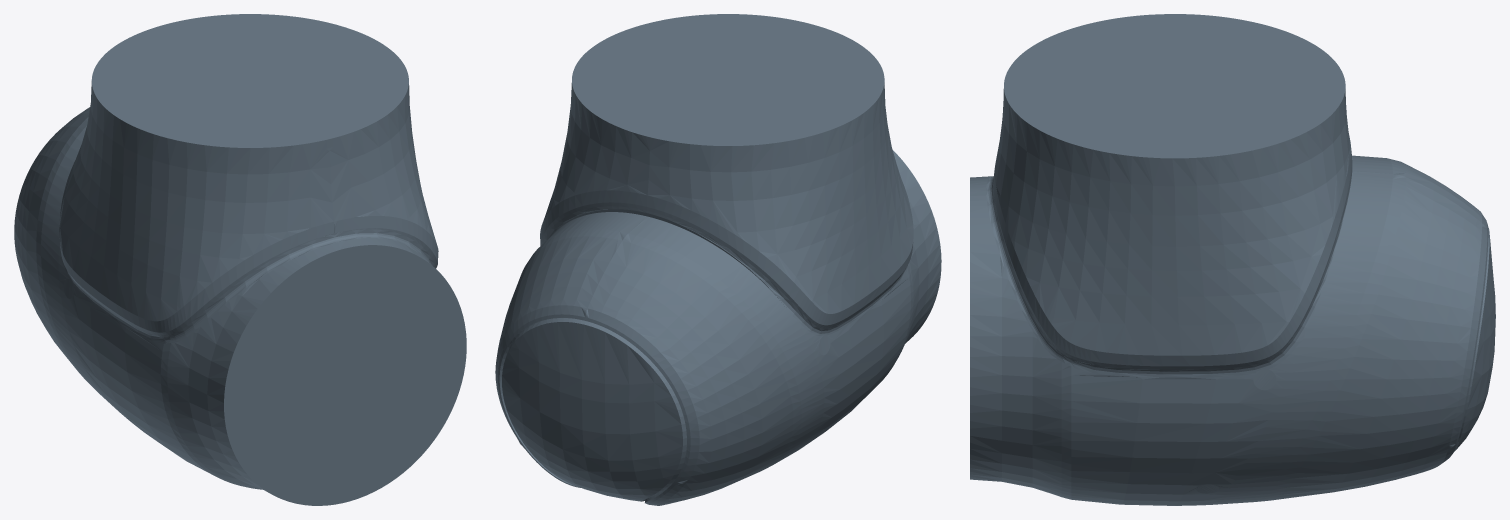
3 views of the same model, side by side, from view 1: azimuth 30°, elevation 25°; view 2: azimuth 150°, elevation 25°; view 3: azimuth 270°, elevation 25° (orthographic). The views are drawn at different scales.
Visible parts, largest first — view 1: MF1013_5_0; view 2: MF1013_5_0; view 3: MF1013_5_0.
Part boxes in pixels (left/top/right/bottom): MF1013_5_0: left=14, top=14, right=466, bottom=505; MF1013_5_0: left=495, top=14, right=941, bottom=505; MF1013_5_0: left=970, top=14, right=1495, bottom=505.
Size of the model in its own units: 108 by 155 by 131.
